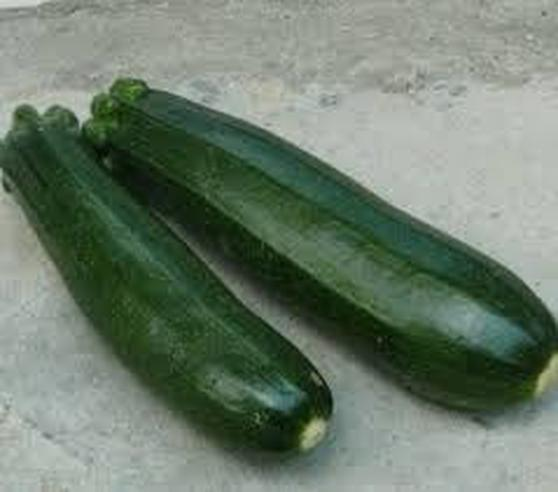zucchini: (99, 57, 558, 397)
